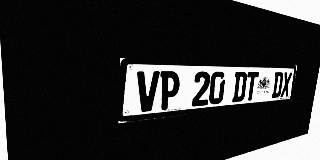0: (208, 72, 226, 105)
2: (192, 71, 211, 107)
D: (232, 72, 247, 102), (271, 72, 284, 98)
P: (158, 71, 180, 110)
T: (244, 72, 259, 101)
V: (136, 71, 160, 113)
X: (280, 72, 292, 97)
